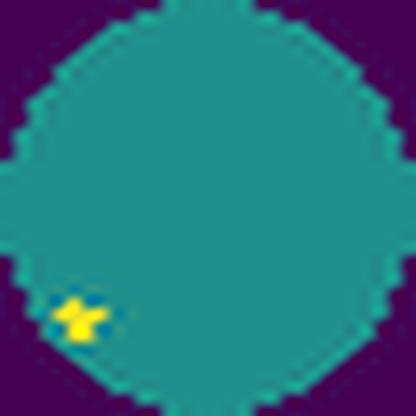Loc: (53, 298, 109, 341)
